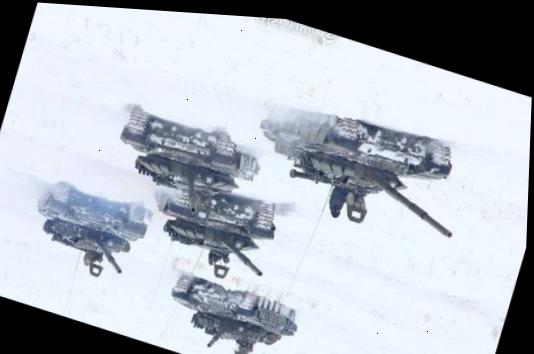tank: (239, 91, 480, 252), (101, 91, 261, 218), (139, 166, 291, 288), (18, 169, 162, 292), (152, 260, 311, 354)
